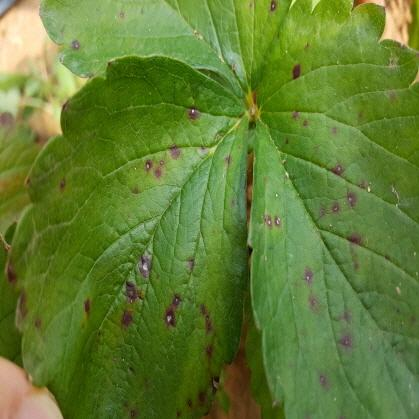Leaf Spot: (5, 54, 249, 418), (247, 0, 418, 418), (36, 0, 292, 104)
